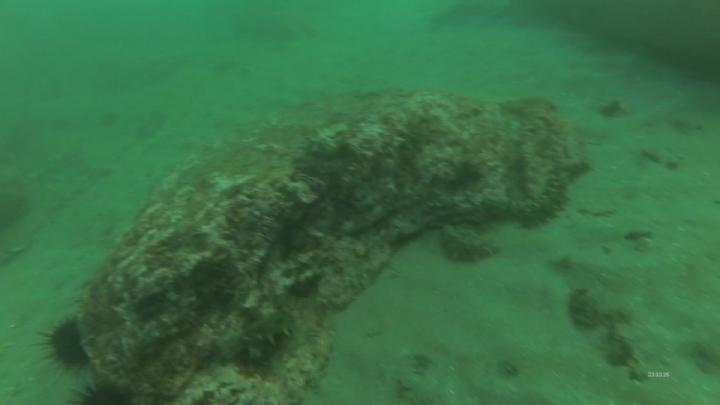echinus: (29, 308, 103, 376)
holothurian: (214, 308, 304, 362), (502, 174, 576, 230), (441, 218, 505, 265)
